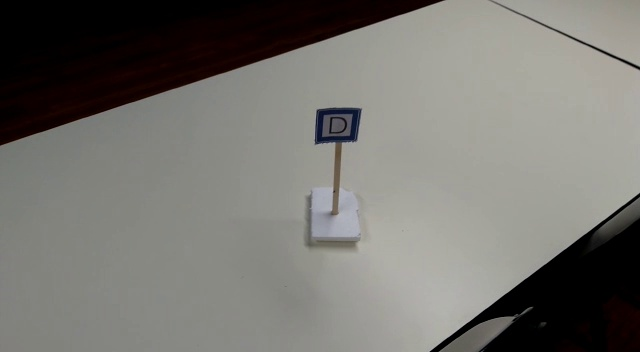durak: (314, 107, 361, 143)
